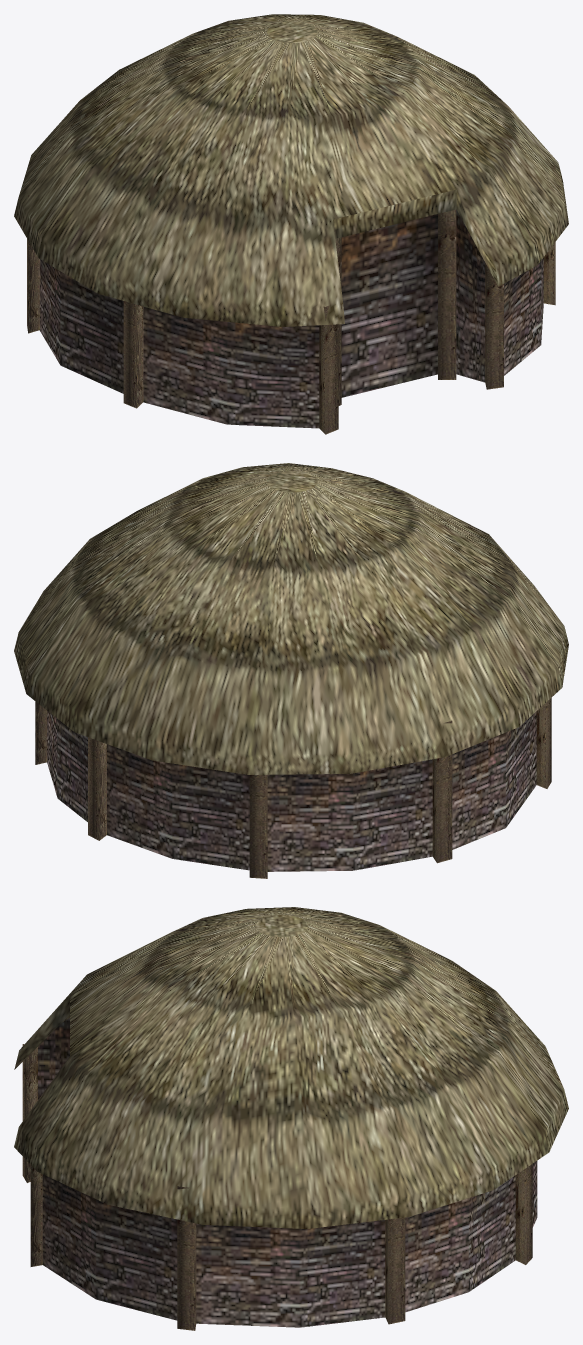
The model's file is celt_house_c.dae.
3 views of the same model, one above another, from view 1: azimuth 30°, elevation 25°; view 2: azimuth 150°, elevation 25°; view 3: azimuth 270°, elevation 25° (orthographic). The views are drawn at different scales.
Visible parts, largest first — view 1: house_3_celt; view 2: house_3_celt; view 3: house_3_celt.
Boxes of the visible parts, x1,y1,x2,y2 form: house_3_celt: (14,14,568,434); house_3_celt: (14,463,568,878); house_3_celt: (14,907,568,1330).
Size of the model in its own units: 10.47 by 5.98 by 10.17.
